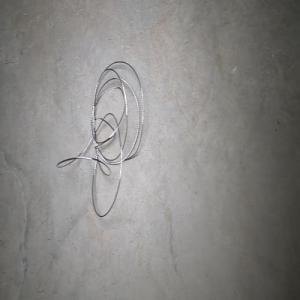Wire: (56, 61, 144, 217)
